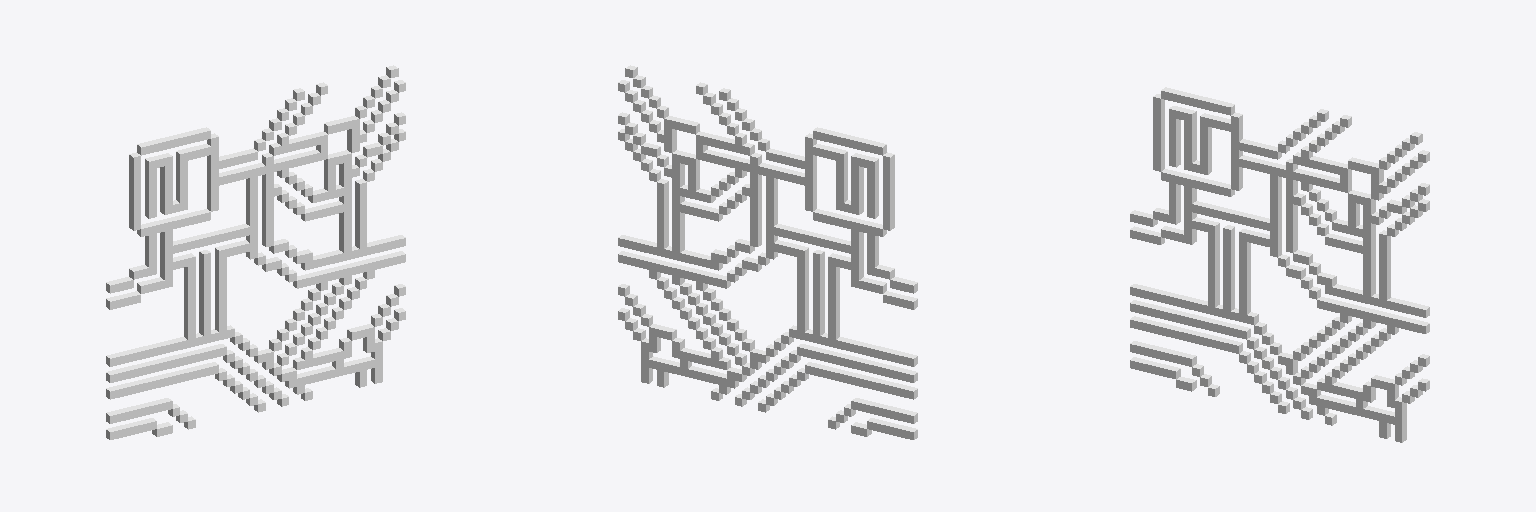
Rendered from FRONT.obj.
3 views of the same model, side by side, from view 1: azimuth 30°, elevation 25°; view 2: azimuth 150°, elevation 25°; view 3: azimuth 330°, elevation 25° (orthographic).
Parts seen in each view (by area): view 1: BlueWall1T-1; view 2: BlueWall1T-1; view 3: BlueWall1T-1.
Part boxes in pixels (x1,y1,x2,y2): BlueWall1T-1: (106,65,405,439); BlueWall1T-1: (618,65,917,439); BlueWall1T-1: (1130,87,1429,442).
Bounding box in the file's own units: 3.8 × 3.8 × 0.1.